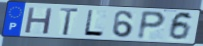6: (166, 11, 196, 43), (111, 10, 136, 40)
H: (23, 6, 55, 35)
L: (82, 9, 105, 38)
P: (135, 10, 168, 41)
T: (58, 7, 81, 37)
